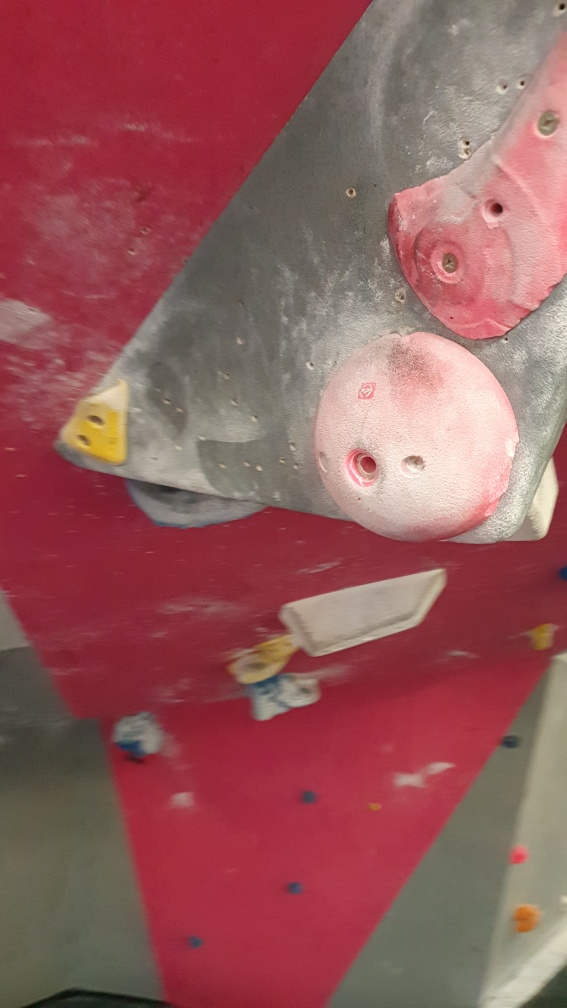Crimp: (60, 379, 133, 468)
Pinch: (277, 562, 452, 660)
Sloper: (311, 328, 522, 547)
